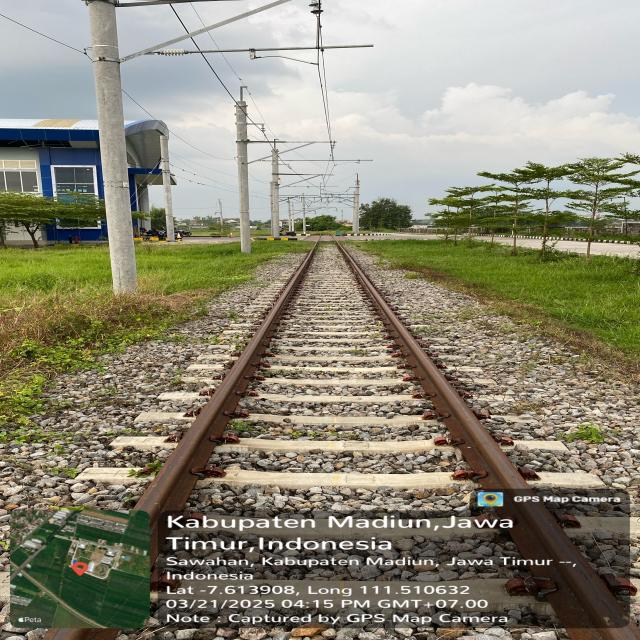rail-detection: (336, 245, 640, 640), (139, 250, 314, 566)
